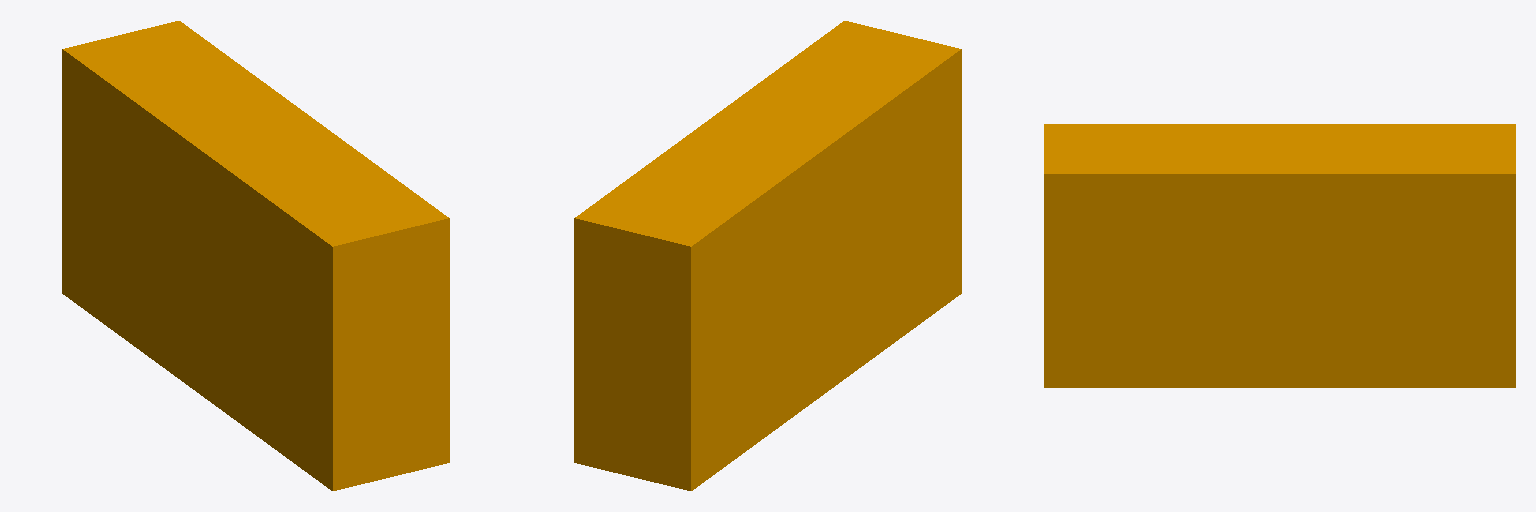
URDF robot description (box):
<robot name="box">
  <link name="my_box">
    <inertial>
      <origin xyz="0 0 0" />
      <mass value="1.0" />
      <inertia  ixx="1.0" ixy="0.0"  ixz="0.0"  iyy="100.0"  iyz="0.0"  izz="1.0" />
    </inertial>
    <visual>
      <origin xyz="0 0 0.5"/>
      <geometry>
        <box size="0.5 2 1" />
      </geometry>
    </visual>
    <collision>
      <origin xyz="0 0 0.5"/>
      <geometry>
        <box size="0.5 2 1" />
      </geometry>
    </collision>
  </link>
  <gazebo reference="my_box">
    <material>Gazebo/Blue</material>
  </gazebo>
</robot>

--- Facts derived from the render (not from the file) ---
The picture shows the robot from 3 angles, left to right: view 1: azimuth 30°, elevation 25°; view 2: azimuth 150°, elevation 25°; view 3: azimuth 270°, elevation 25°; orthographic projection.
Robot: box — 1 links, 0 joints (none); root link my_box; default pose: every joint at zero.
Links seen in each view (by area): view 1: my_box; view 2: my_box; view 3: my_box.
Link boxes in pixels (left/top/right/bottom): my_box: left=62, top=21, right=449, bottom=490; my_box: left=574, top=21, right=961, bottom=490; my_box: left=1044, top=124, right=1515, bottom=387.
Bounding box of the posed robot: 0.5 × 2 × 1 m (x, y, z).
Geometry: primitives only (box / cylinder / sphere), no mesh files.
